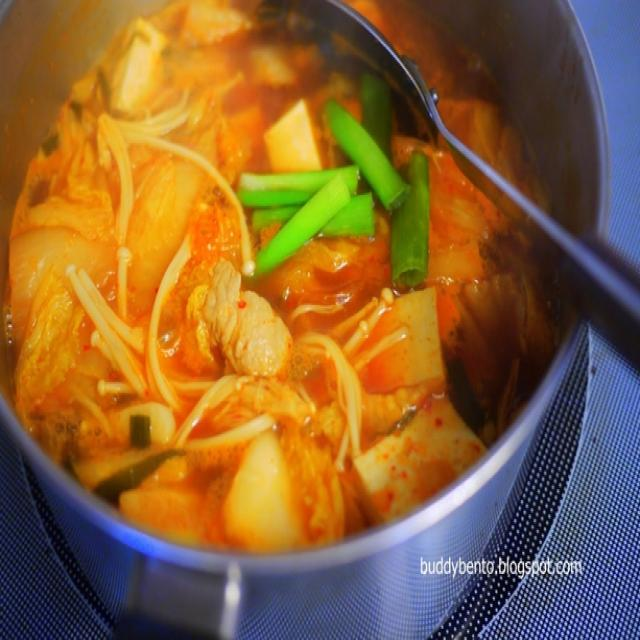汤锅炖物: (18, 17, 595, 577)
